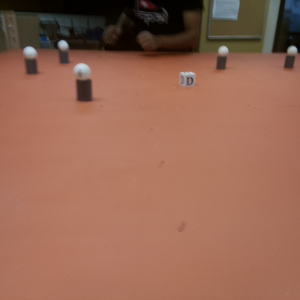obstacle: (73, 62, 93, 101), (24, 46, 39, 75), (57, 40, 70, 63), (283, 46, 296, 69), (216, 46, 227, 69)
